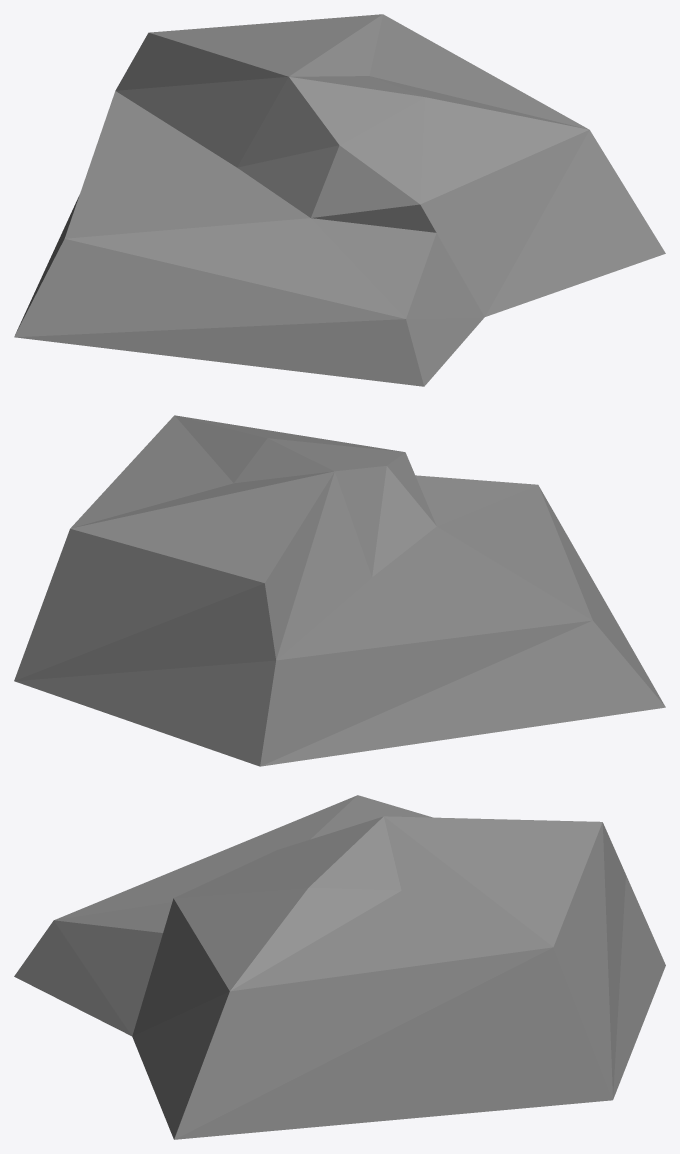
The model's file is Stone_B_15.FBX.
3 renders of one model, top to bottom at view 1: azimuth 30°, elevation 25°; view 2: azimuth 150°, elevation 25°; view 3: azimuth 270°, elevation 25°, orthographic. The views are drawn at different scales.
Parts seen in each view (by area): view 1: Stone_B_15; view 2: Stone_B_15; view 3: Stone_B_15.
Part boxes in pixels (box(x1,y1,x2,y2)): Stone_B_15: box(14, 14, 665, 386); Stone_B_15: box(14, 415, 665, 766); Stone_B_15: box(14, 795, 665, 1139).
Size of the model in its own units: 3.61 by 1.03 by 3.37.
